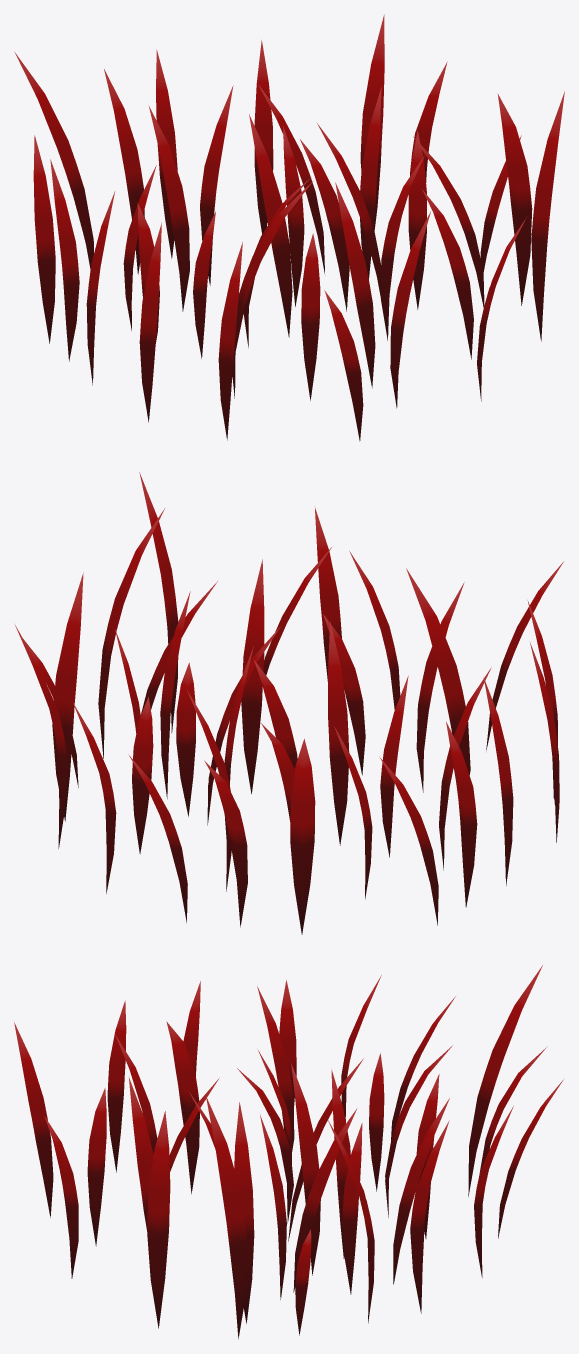
File: Grass.fbx
3 views of the same model, one above another, from view 1: azimuth 30°, elevation 25°; view 2: azimuth 150°, elevation 25°; view 3: azimuth 270°, elevation 25° (orthographic). The views are drawn at different scales.
Visible parts, largest first — view 1: Grass; view 2: Grass; view 3: Grass.
Part boxes in pixels (x1,y1,x2,y2): Grass: (14, 14, 564, 441); Grass: (15, 472, 563, 934); Grass: (14, 965, 564, 1339).
Bounding box in the file's own units: 2.89 × 1.54 × 3.25.
